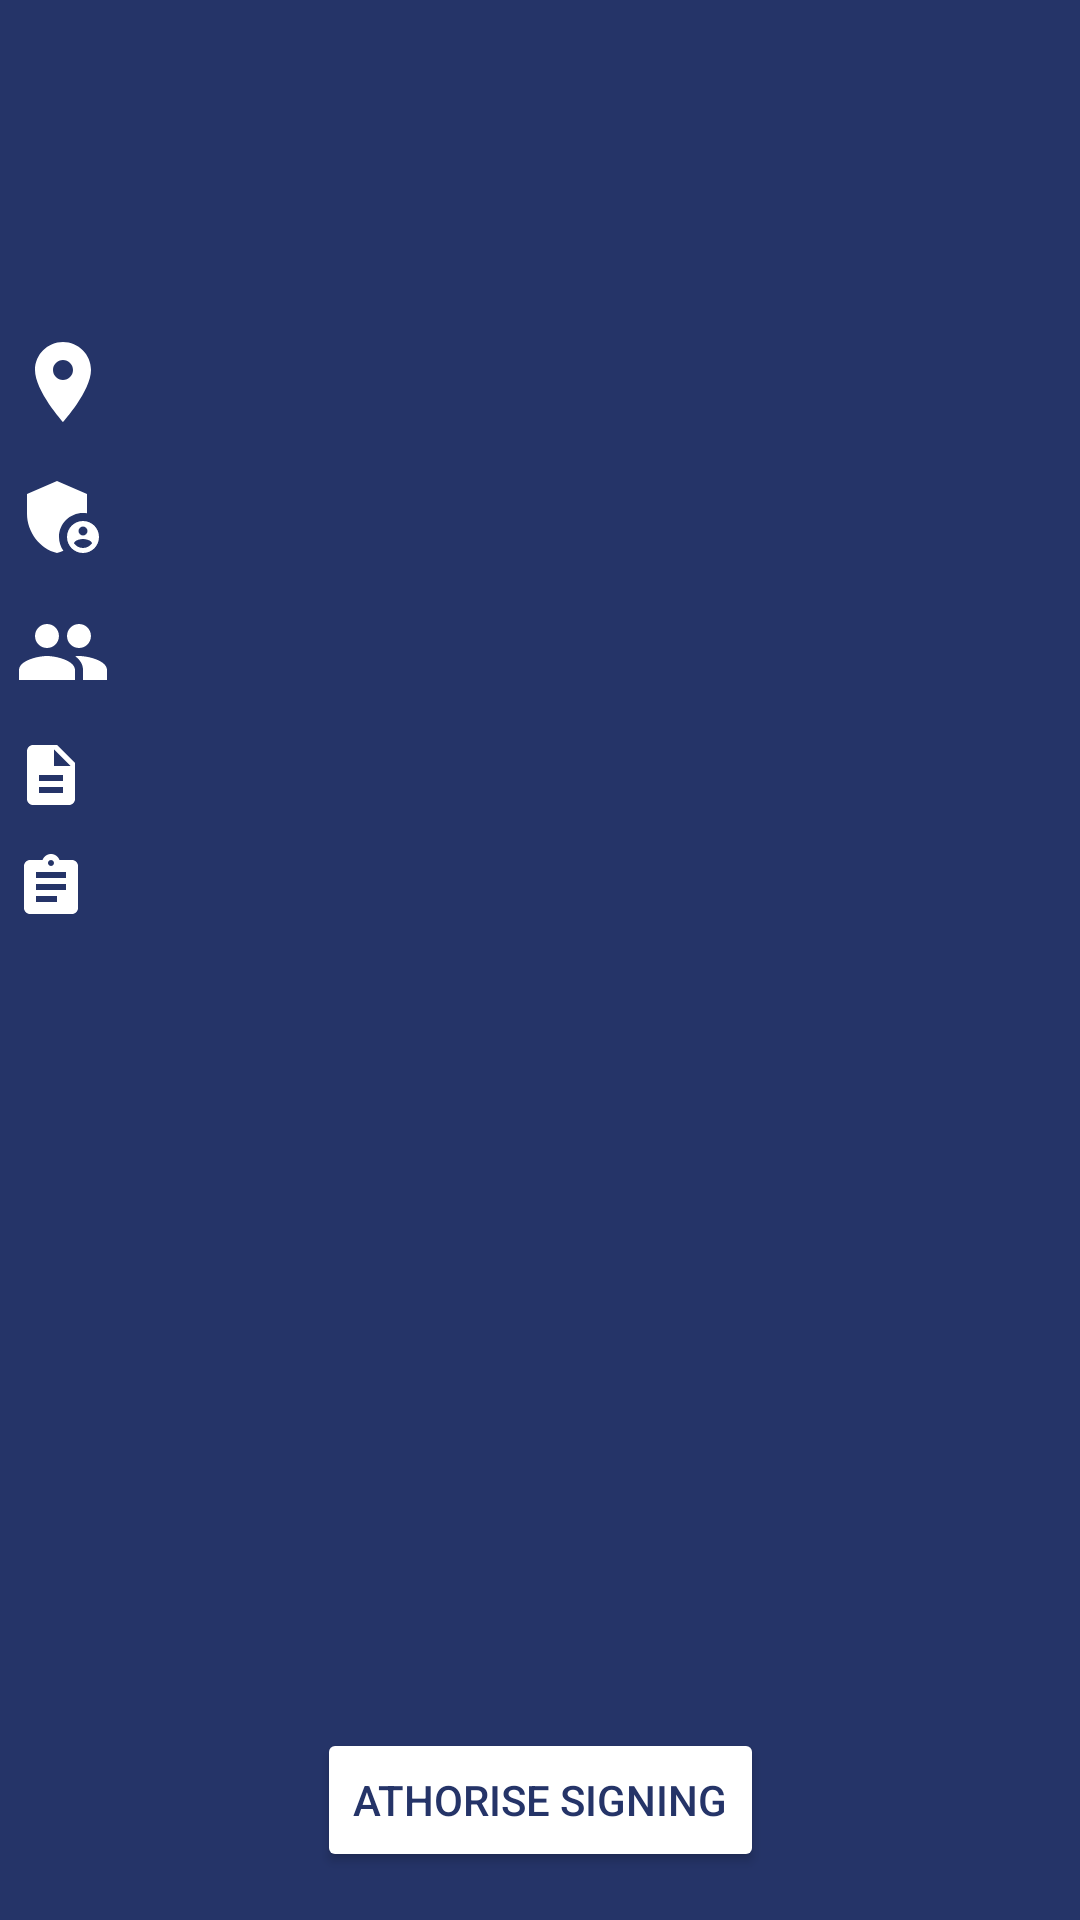

Where icons sit on this 1080*1920 app screen, as (x1, y1, x2, y2):
admin panel settings: (27, 481, 99, 553)
assignment: (24, 854, 78, 914)
description: (27, 745, 75, 805)
location on: (35, 342, 91, 422)
people: (19, 624, 107, 680)
